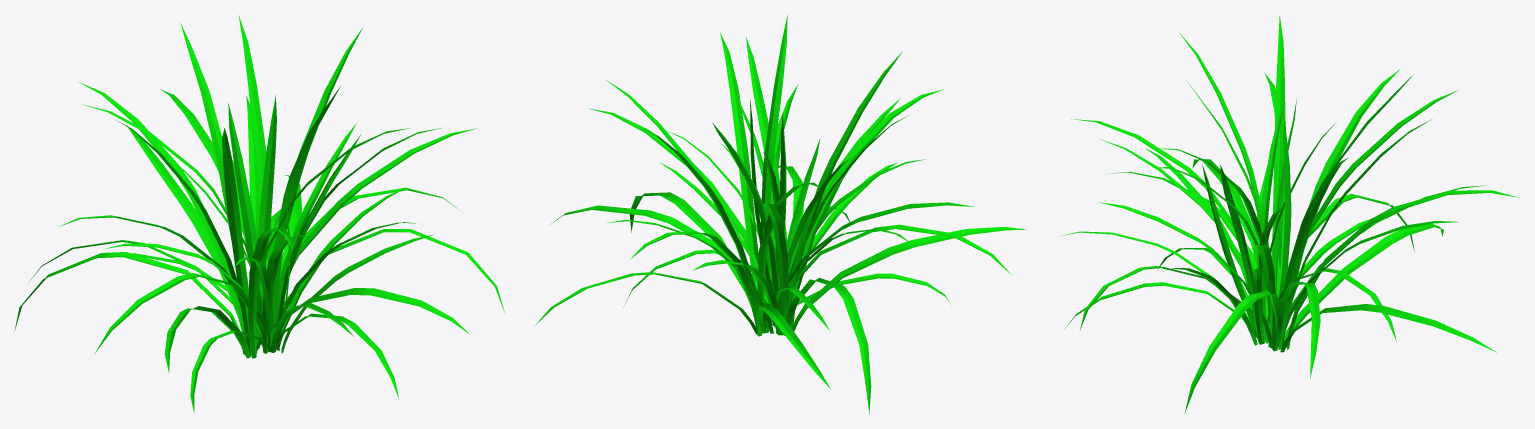
The model's file is glass.fbx.
3 views of the same model, side by side, from view 1: azimuth 30°, elevation 25°; view 2: azimuth 150°, elevation 25°; view 3: azimuth 270°, elevation 25° (orthographic). The views are drawn at different scales.
Visible parts, largest first — view 1: grass:grass_01; view 2: grass:grass_01; view 3: grass:grass_01.
Boxes of the visible parts, left/top/right/bottom form: grass:grass_01: left=14, top=15, right=504, bottom=414; grass:grass_01: left=534, top=15, right=1026, bottom=414; grass:grass_01: left=1059, top=15, right=1519, bottom=413.
Bounding box in the file's own units: 2.64 × 1.73 × 2.55.
